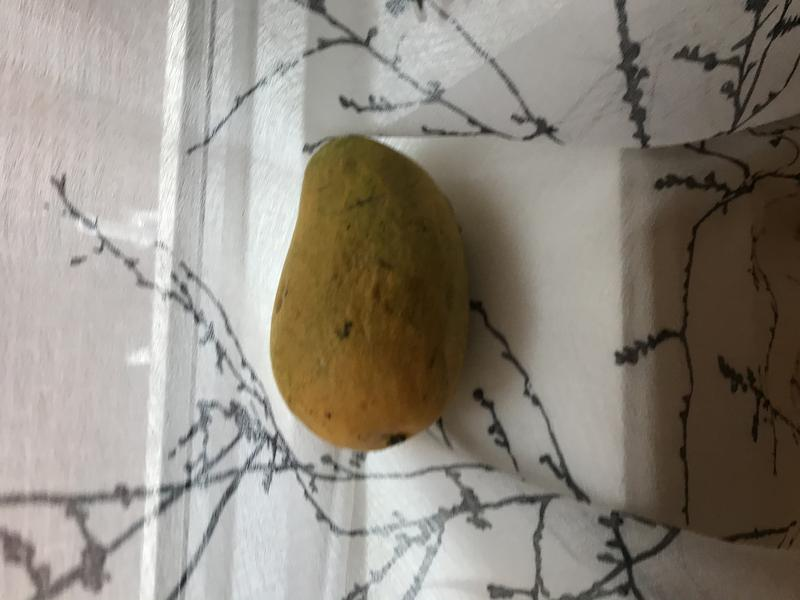w: (257, 127, 473, 463)
